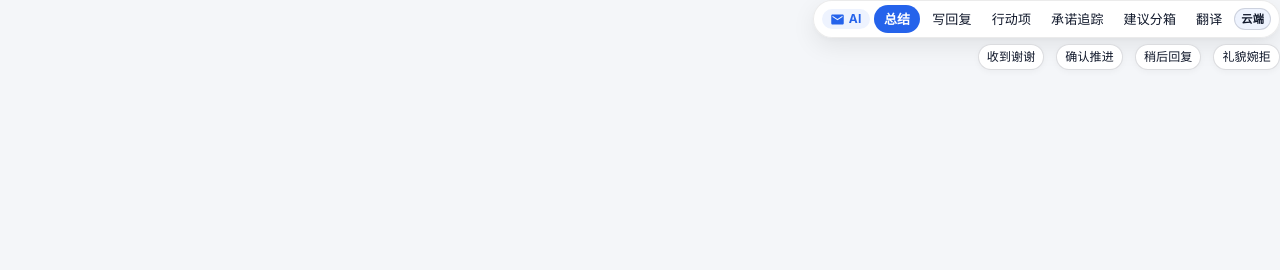
Test: displays commitments tracker section when commitments are found in body
Click the button with test id "commitments-button": {"x": 1077, "y": 19} [1043,5,1112,33]
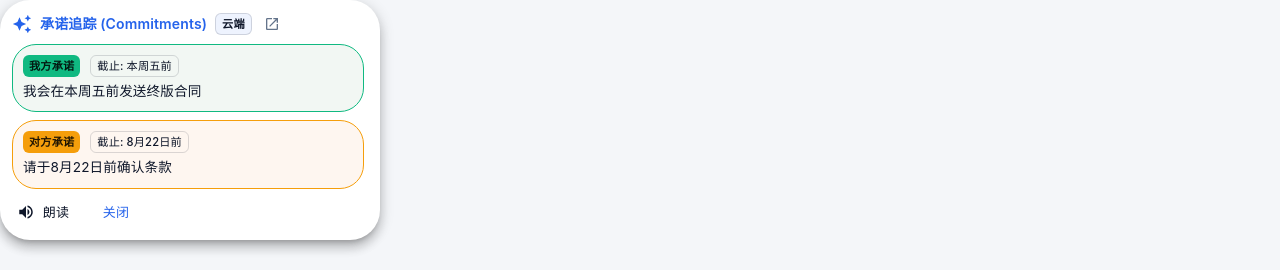
Result: the heading "承诺追踪 (Commitments)" is shown at [40,13,207,35]
Result: the text "我方承诺" is shown at [29,59,74,73]
Result: the text "对方承诺" is shown at [29,135,74,149]
